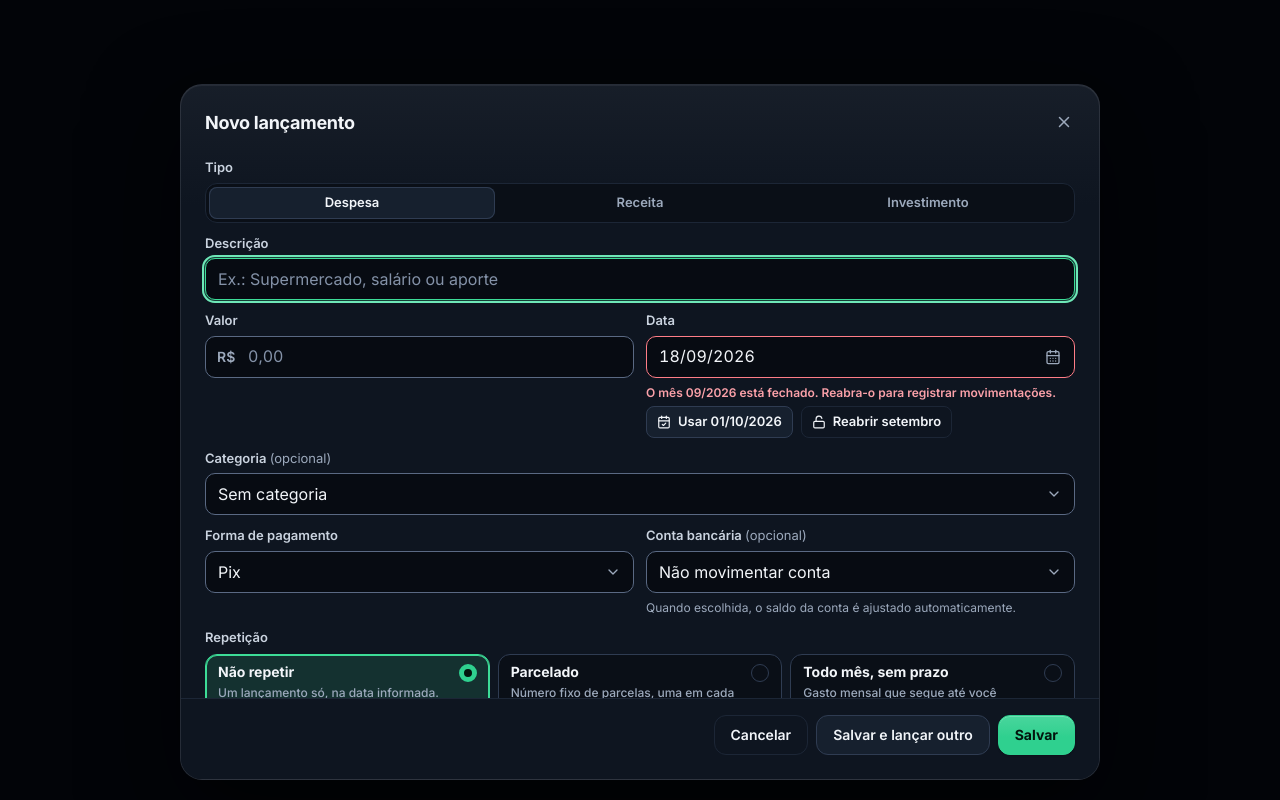
Test: R3-REC-2 · data em mês fechado › avisa antes de salvar e oferece usar outra data ou reabrir o mês
The width and height of the screenshot is (1280, 800).
Check: the text "O mês 09/2026 está fechado" is shown, box top-left (646, 385), bottom-right (1056, 400)
Click the button "Usar 01/10/2026" at (719, 422), box top-left (646, 406), bottom-right (793, 438)
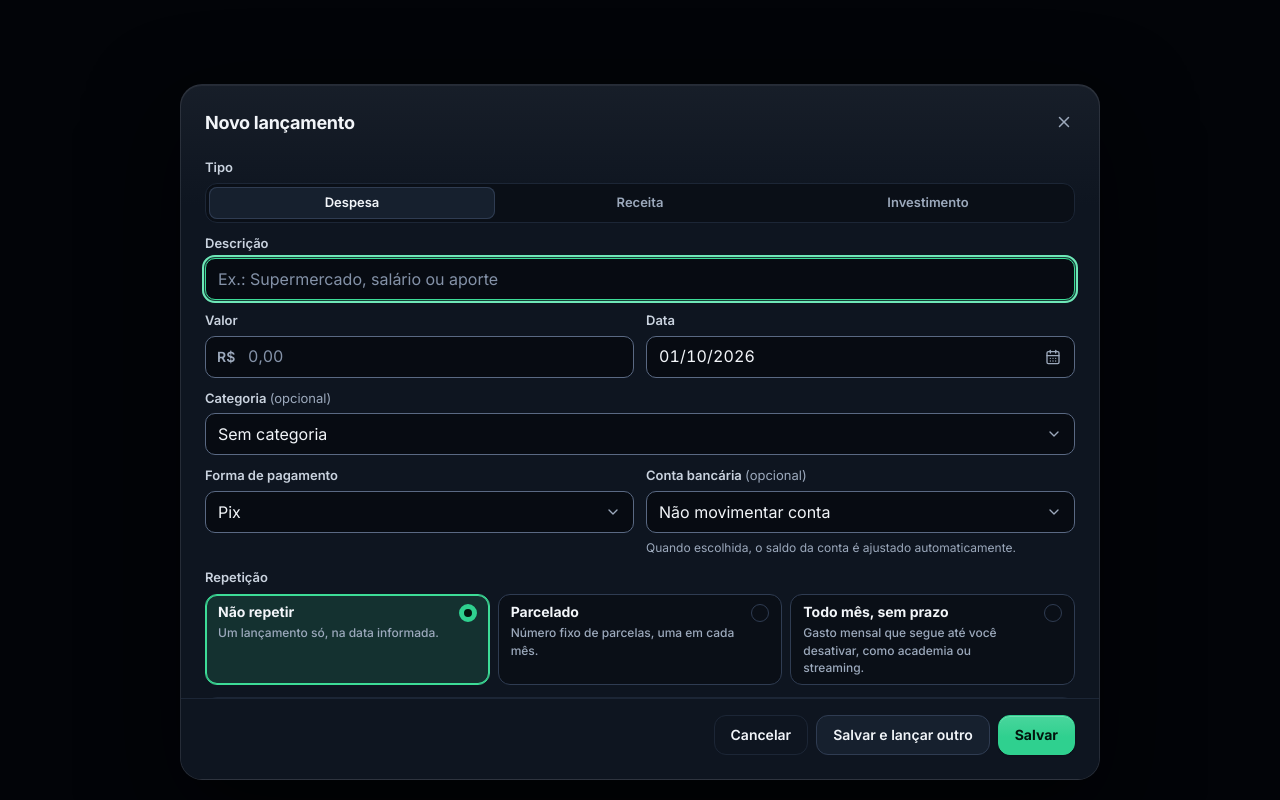
Check: the text "O mês 09/2026 está fechado" is gone
Check: the button "Reabrir setembro" is gone
